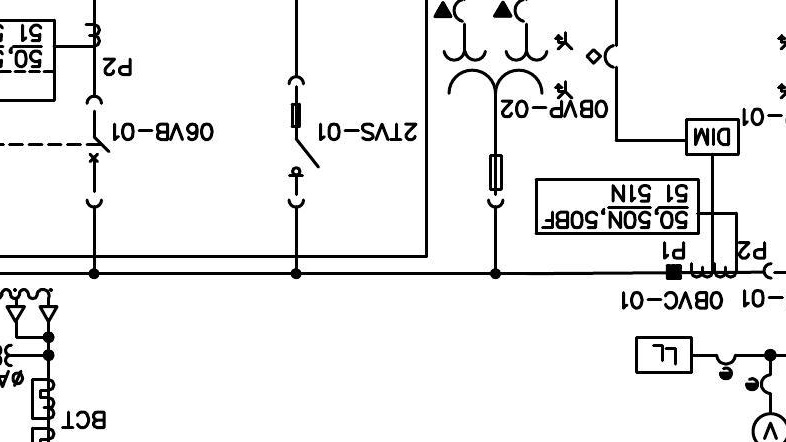22_breaker: (85, 94, 111, 209)
22_ds: (286, 74, 321, 209)
DIM: (685, 118, 741, 156)
LL: (634, 335, 694, 375)
terminator_double: (4, 304, 59, 340)
